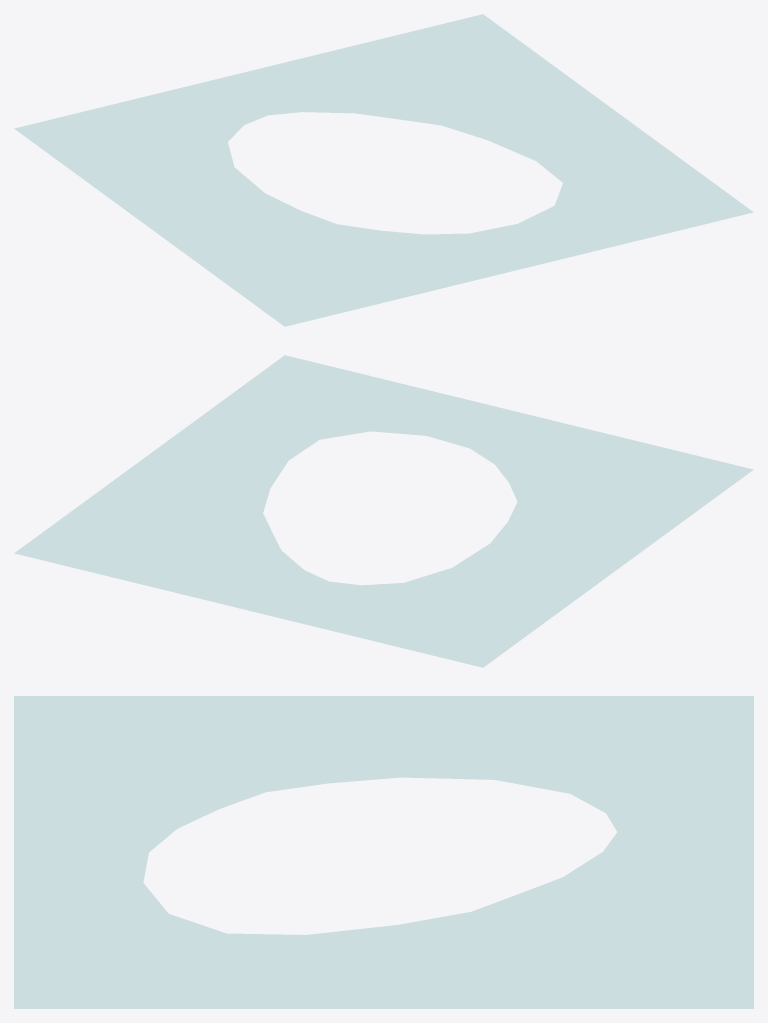
Rendered from sea_foam_002.fbx.
The picture shows the model from 3 angles, top to bottom: view 1: azimuth 30°, elevation 25°; view 2: azimuth 150°, elevation 25°; view 3: azimuth 270°, elevation 25°; orthographic projection. The views are drawn at different scales.
Visible parts, largest first — view 1: sea_foam_002; view 2: sea_foam_002; view 3: sea_foam_002.
Boxes of the visible parts, x1,y1,x2,y2 form: sea_foam_002: [14, 14, 753, 326]; sea_foam_002: [14, 355, 753, 667]; sea_foam_002: [14, 696, 753, 1008].
Size of the model in its own units: 512 by 512 by 1.27e-21.
